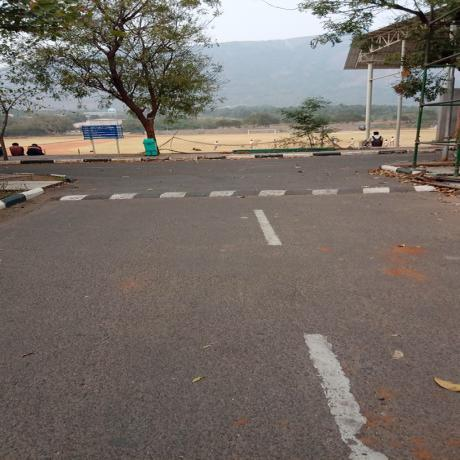Speed Bump: (43, 183, 442, 202)
